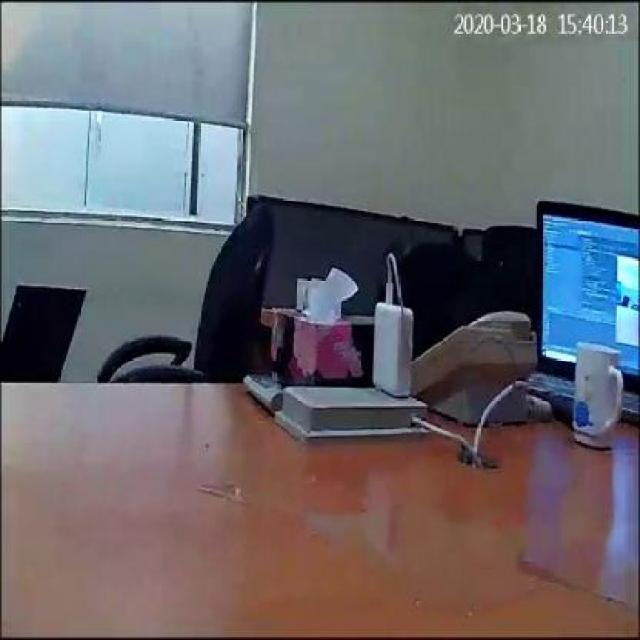spill: (314, 502, 546, 621)
